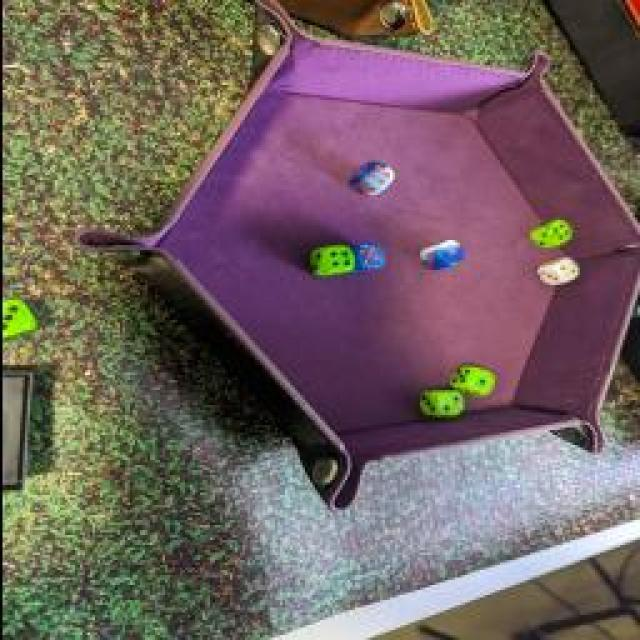dice_1: (445, 362, 497, 396), (416, 238, 464, 272)
dice_2: (416, 386, 466, 419), (535, 255, 580, 287)
dice_3: (0, 295, 40, 340)
dice_4: (344, 159, 394, 199), (302, 246, 352, 282), (528, 216, 574, 252), (351, 243, 381, 275)
